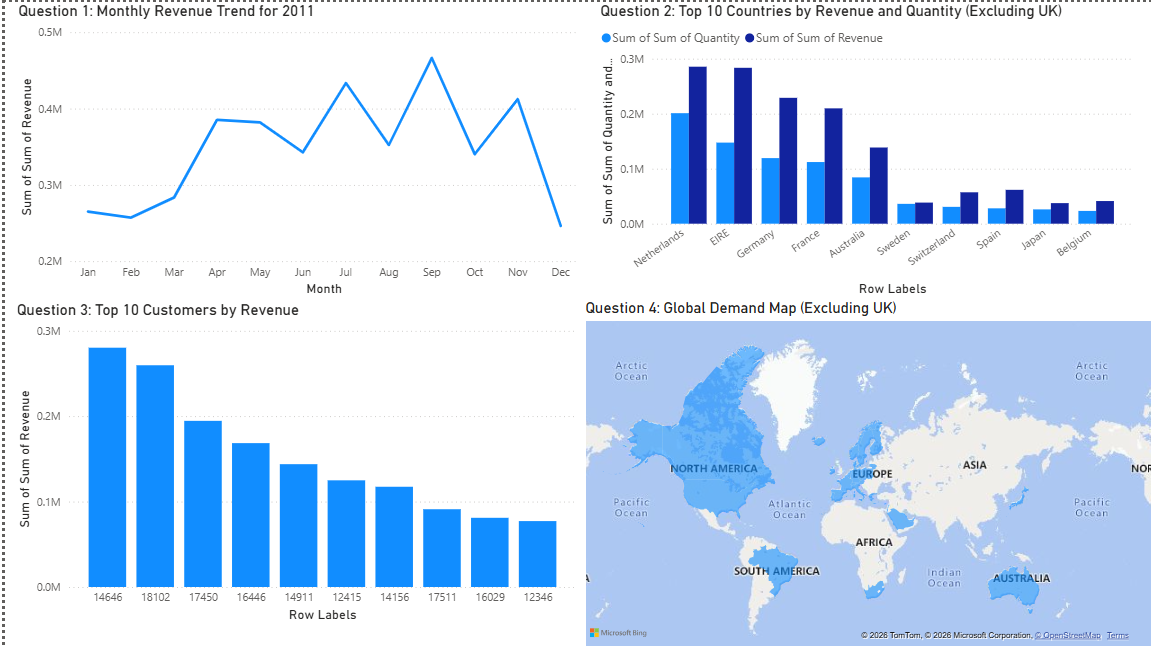

This screenshot's page, from the dashboard's own definition file:
{"tool":"powerbi","page":{"name":"Retail Sales Dashboard","canvas":[1280,720],"ordinal":0},"visuals":[{"type":"lineChart","title":"Question 1: Monthly Revenue Trend for 2011","fields":{"Category":["MonthOrder.Month"],"Y":["Sum(Question 1.Sum of Revenue)"]},"box":[9.4,0,631.2,330.7],"z":0},{"type":"clusteredColumnChart","title":"Question 3: Top 10 Customers by Revenue","fields":{"Category":["Question 3 (2).Row Labels"],"Y":["Sum(Question 3 (2).Sum of Revenue)"]},"box":[9,331,631,361],"z":1000},{"type":"clusteredColumnChart","title":"Question 2: Top 10 Countries by Revenue and Quantity (Excluding UK)","fields":{"Category":["Question 2 (2).Row Labels"],"Y":["Sum(Question 2 (2).Sum of Quantity)","Sum(Question 2 (2).Sum of Revenue)"]},"box":[656,0,601,331],"z":2000},{"type":"filledMap","title":"Question 4: Global Demand Map (Excluding UK)","fields":{"Category":["Question-4 (2).Row Labels"]},"box":[640.5,330.1,639,390.7],"z":3000}]}

Visuals, with their boxes in screenshot pixels (x1, y1, x2, y2), scaled from the page's 1280x720 canvas onto the 1153x649 screenshot:
"Question 1: Monthly Revenue Trend for 2011" lineChart: region(8, 0, 577, 298)
"Question 3: Top 10 Customers by Revenue" clusteredColumnChart: region(8, 298, 576, 624)
"Question 2: Top 10 Countries by Revenue and Quantity (Excluding UK)" clusteredColumnChart: region(591, 0, 1132, 298)
"Question 4: Global Demand Map (Excluding UK)" filledMap: region(577, 298, 1152, 648)
